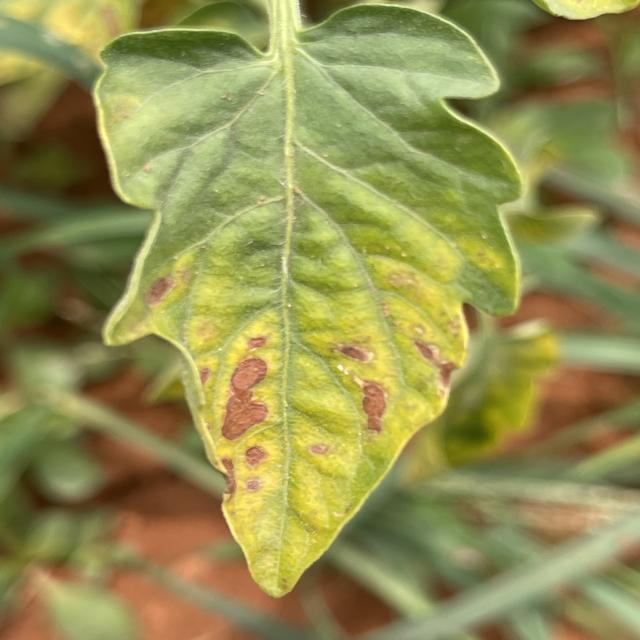tomato_early blight: (98, 10, 516, 594), (402, 320, 556, 488)
